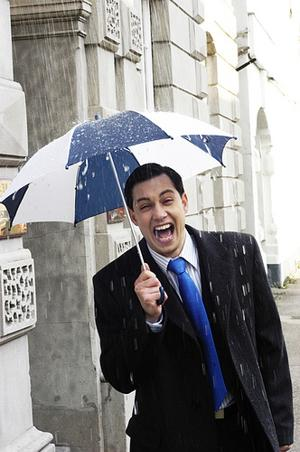person: (94, 163, 295, 452)
